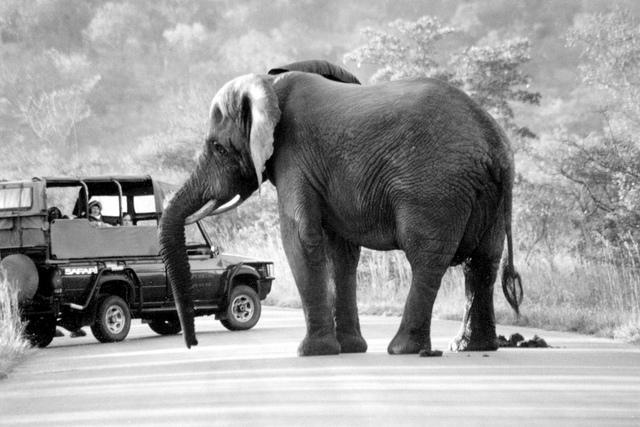car: (0, 175, 278, 349)
truck: (0, 176, 274, 342)
